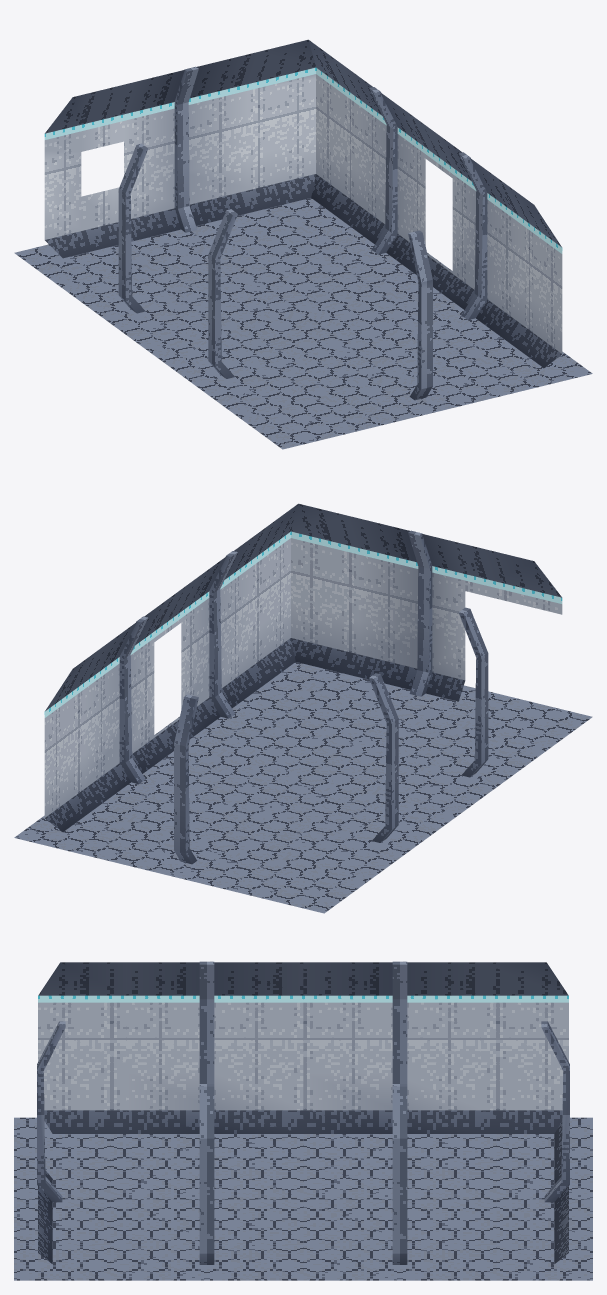
File: stn.room__quarters_2x3.glb
3 renders of one model, top to bottom at view 1: azimuth 30°, elevation 25°; view 2: azimuth 150°, elevation 25°; view 3: azimuth 270°, elevation 25°, orthographic. The views are drawn at different scales.
Parts seen in each view (by area): view 1: kit_shell_walls, kit_shell_floor, kit_ribs; view 2: kit_shell_floor, kit_shell_walls, kit_ribs; view 3: kit_shell_walls, kit_shell_floor, kit_ribs.
Boxes of the visible parts, <box> form: kit_shell_walls: <box>44,39,562,367</box>; kit_shell_floor: <box>14,198,592,449</box>; kit_ribs: <box>118,66,487,400</box>; kit_shell_floor: <box>14,662,592,913</box>; kit_shell_walls: <box>44,503,562,831</box>; kit_ribs: <box>119,530,488,864</box>; kit_shell_walls: <box>38,962,568,1263</box>; kit_shell_floor: <box>14,1117,592,1280</box>; kit_ribs: <box>37,961,569,1264</box>.
Bounding box in the file's own units: 8 × 4.01 × 12.
5 materials, 5 textured.
